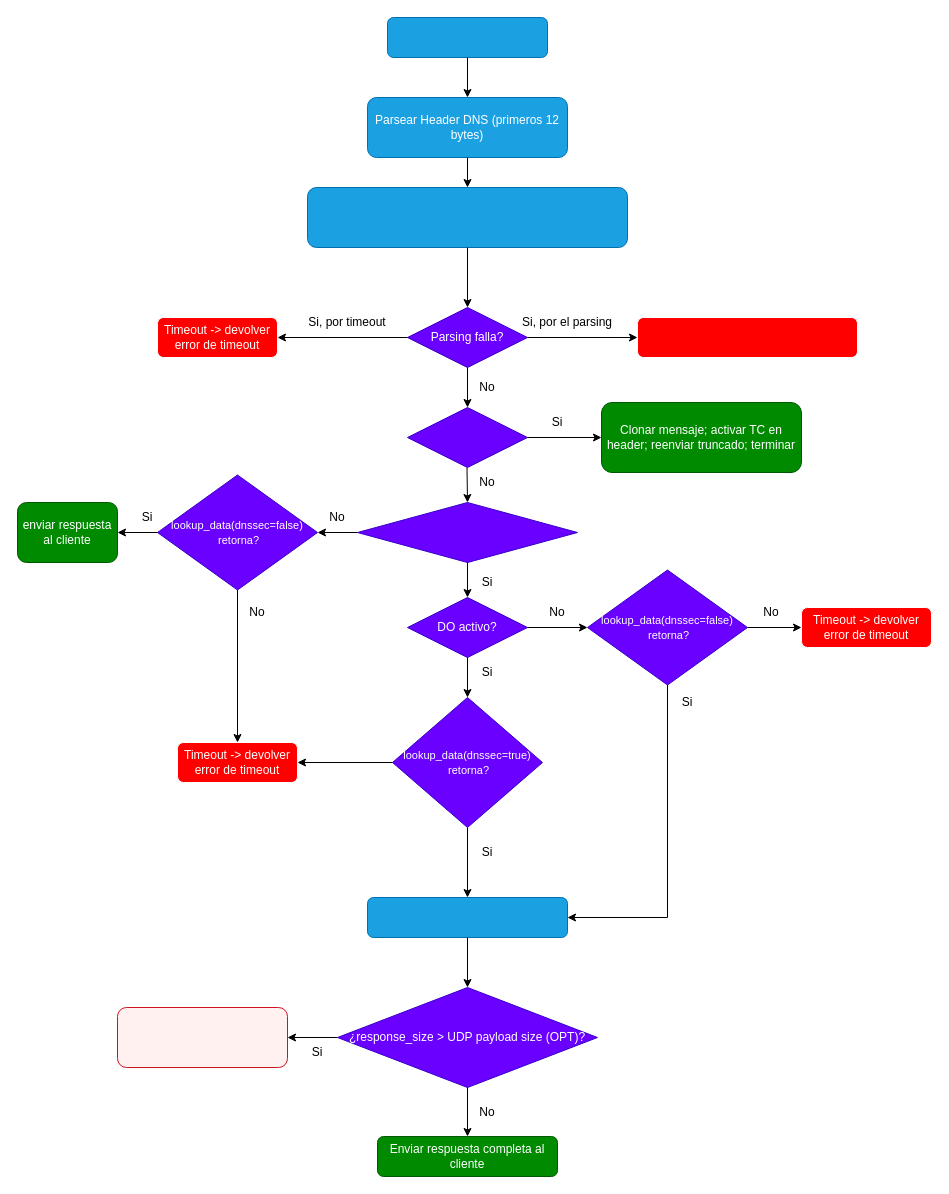
Some shapes in this 949 by 1194 pixel diagram are drawn without their labels. Each missing label, with the centre of its shape:
"Inicio: consulta DNS recibida" belongs at point 467,37.
"Intentar parsear DnsMessage::from_bytes (con timeout)" belongs at point 467,217.
"Marcar TC en header; responder versión truncada" belongs at point 202,1037.
"Responder RCODE=FORMERR" belongs at point 747,337.
"Serializar respuesta a bytes" belongs at point 467,917.
"¿Contiene registro OPT (EDNS0)?" belongs at point 467,532.
"¿TC case?" belongs at point 467,437.
